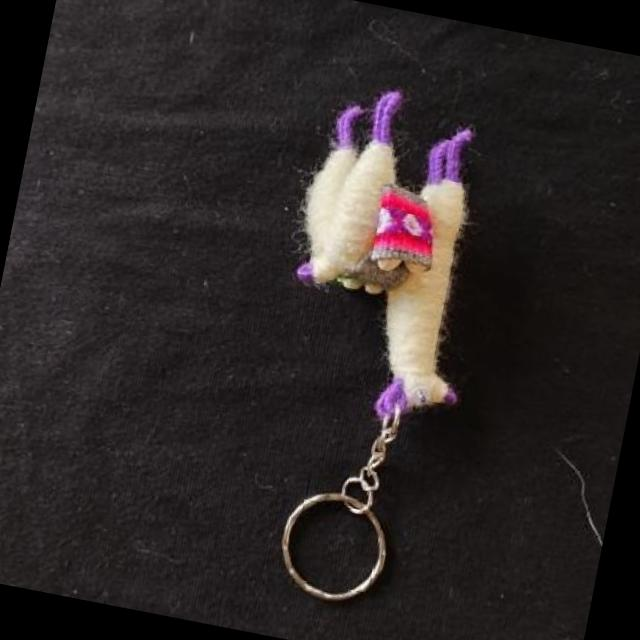Llavero: (263, 75, 515, 435)
